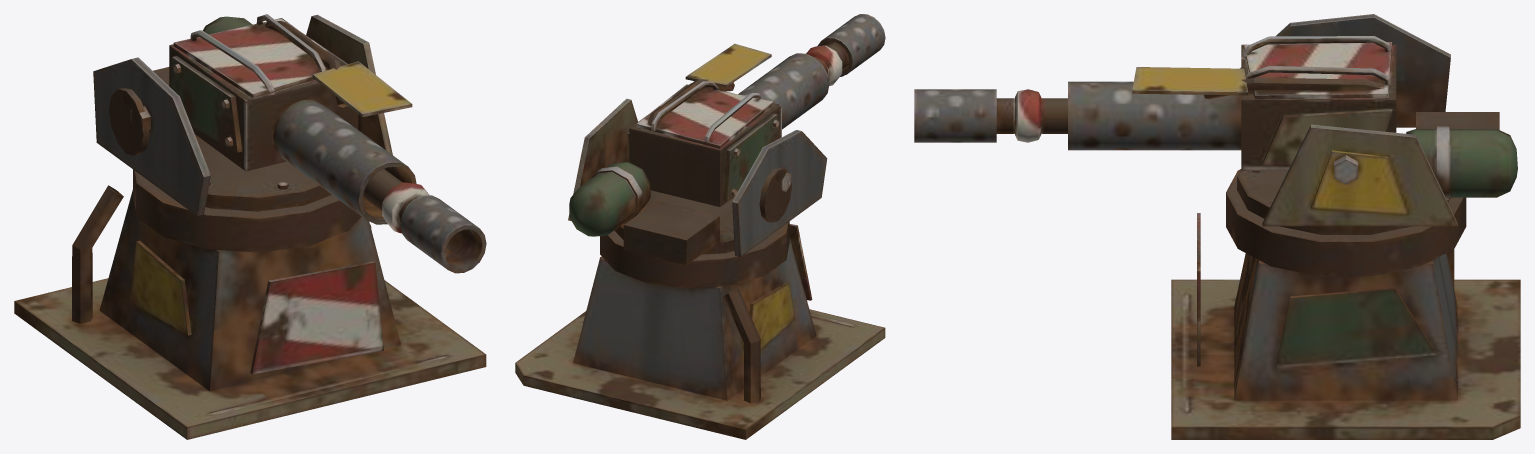
The model's file is R4W_Basic_LOD1.glb.
3 renders of one model, left to right at view 1: azimuth 30°, elevation 25°; view 2: azimuth 150°, elevation 25°; view 3: azimuth 270°, elevation 25°, orthographic. The views are drawn at different scales.
Visible parts, largest first — view 1: R4W_Basic_LOD1; view 2: R4W_Basic_LOD1; view 3: R4W_Basic_LOD1.
Part boxes in pixels (left/top/right/bottom): R4W_Basic_LOD1: left=14, top=14, right=486, bottom=439; R4W_Basic_LOD1: left=515, top=14, right=885, bottom=439; R4W_Basic_LOD1: left=914, top=14, right=1520, bottom=439.
Size of the model in its own units: 0.5 by 0.4948 by 0.868.
4 materials, 4 textured.
